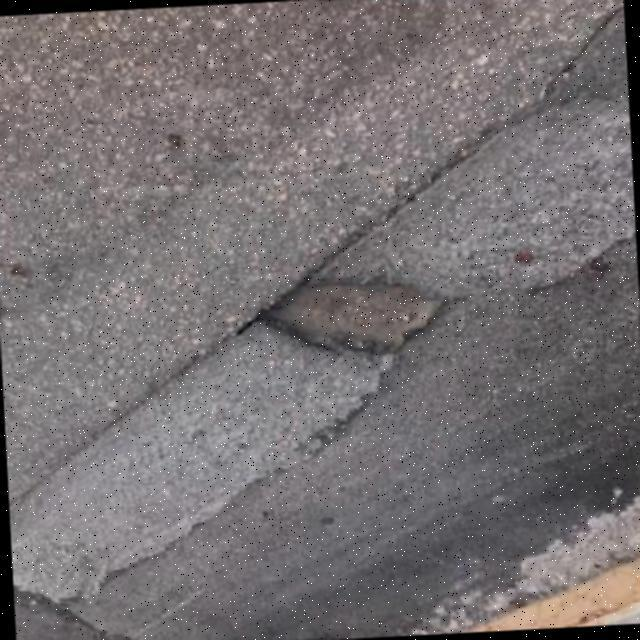Pothole: (260, 280, 450, 355)
